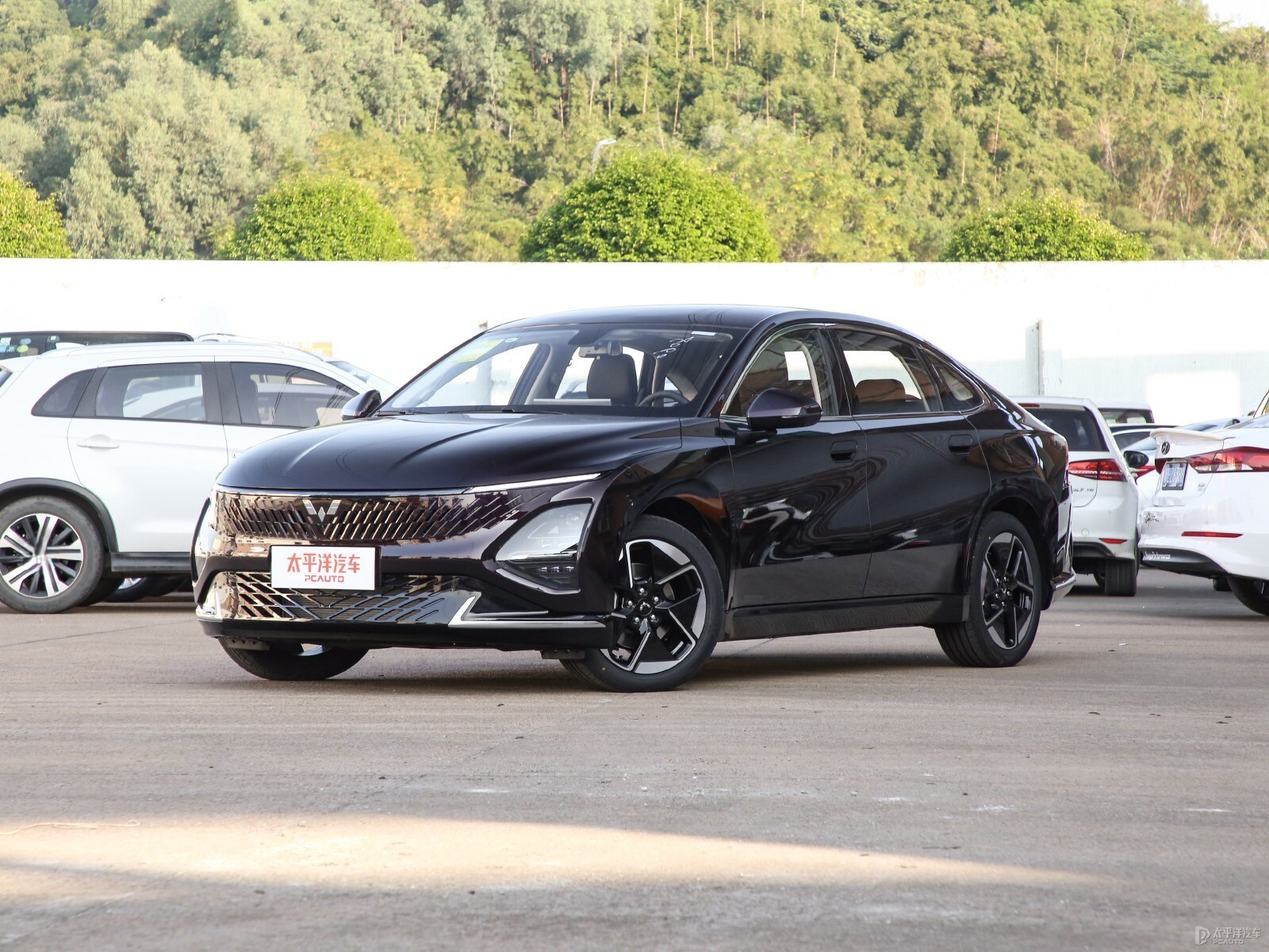SGMW: (303, 500, 341, 522)
